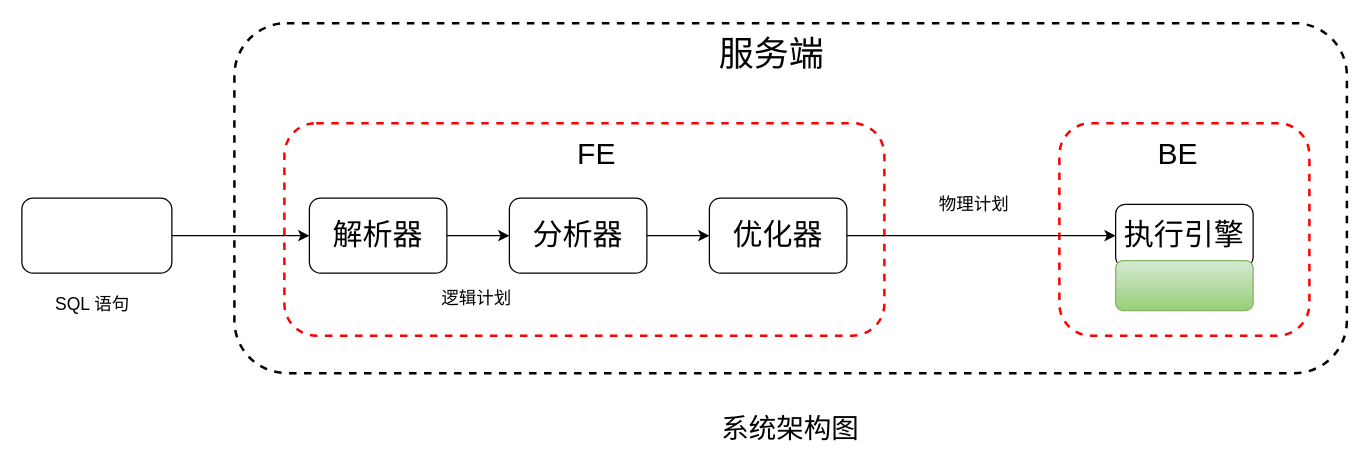
Image size: 1370x469. Some labels were removed from this diagram. The shapes that lost their labels are listed below. From the top down, each one's box as (x1, y1, x2, y2) in pixels, then its label:
(21, 197, 172, 273): 客户端
(1114, 259, 1253, 311): 存储引擎
